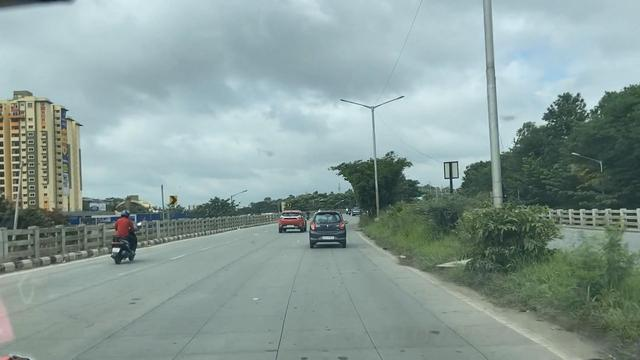LMV: (311, 211, 344, 249), (113, 215, 138, 256), (279, 210, 307, 235)
